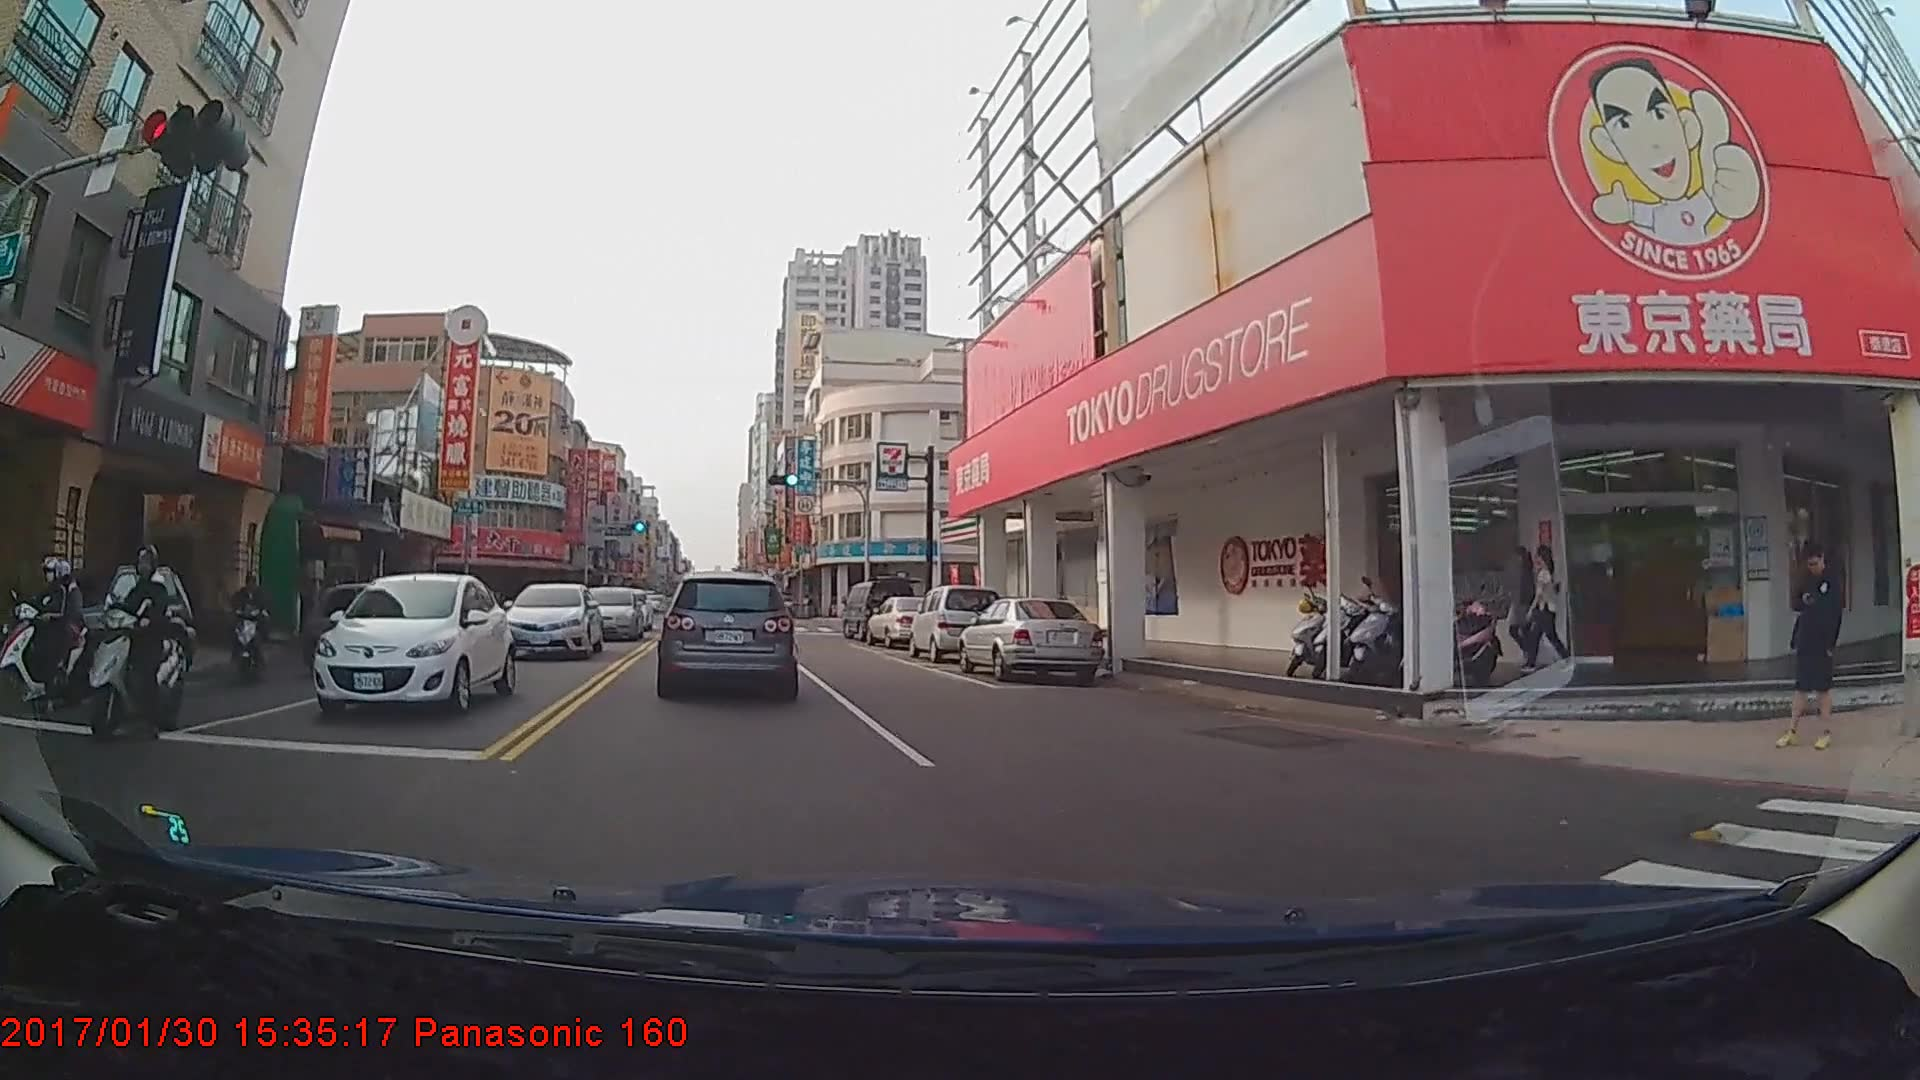pedestrian: (1775, 540, 1847, 751), (1518, 543, 1567, 678), (1508, 545, 1544, 665)
rider: (80, 546, 194, 743), (229, 564, 276, 685)
vehicle: (309, 571, 513, 719), (0, 561, 197, 706), (662, 573, 794, 699), (955, 594, 1103, 686), (500, 582, 602, 660), (906, 586, 1003, 663), (844, 582, 910, 641), (865, 598, 940, 646), (578, 587, 641, 642)
